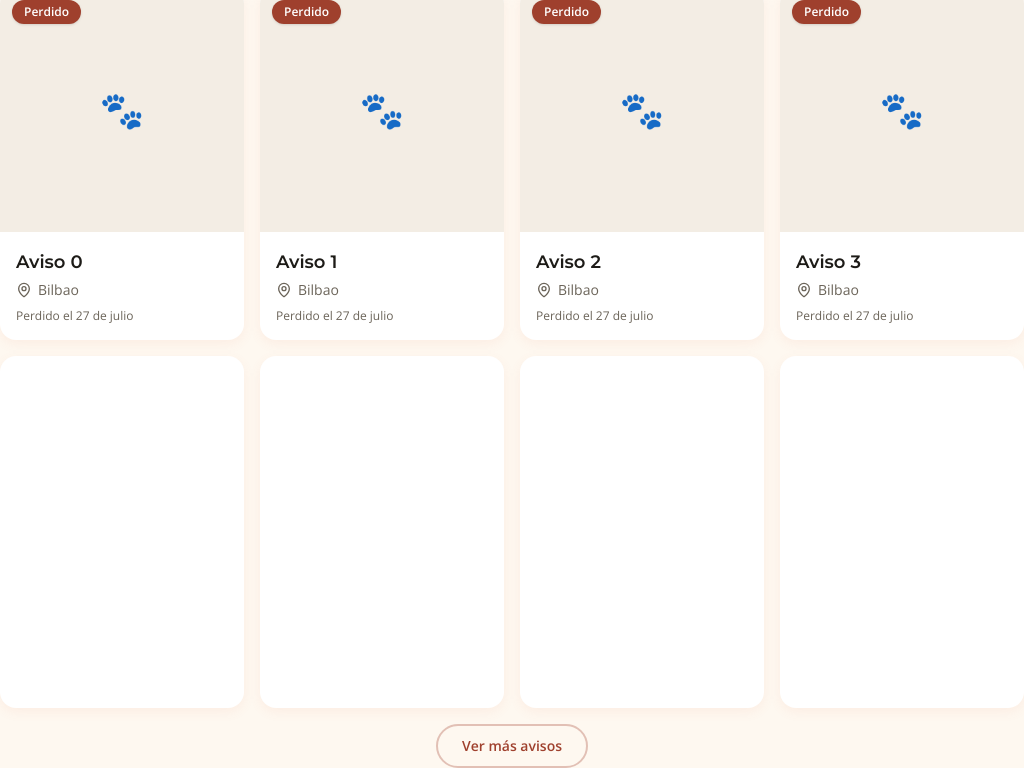
Test case: PerdidosView › con más de 8 avisos, «Ver más avisos» despliega el resto
(page scrolled)
Click the button "Ver más avisos".
click(512, 746)  # box [436, 724, 588, 767]
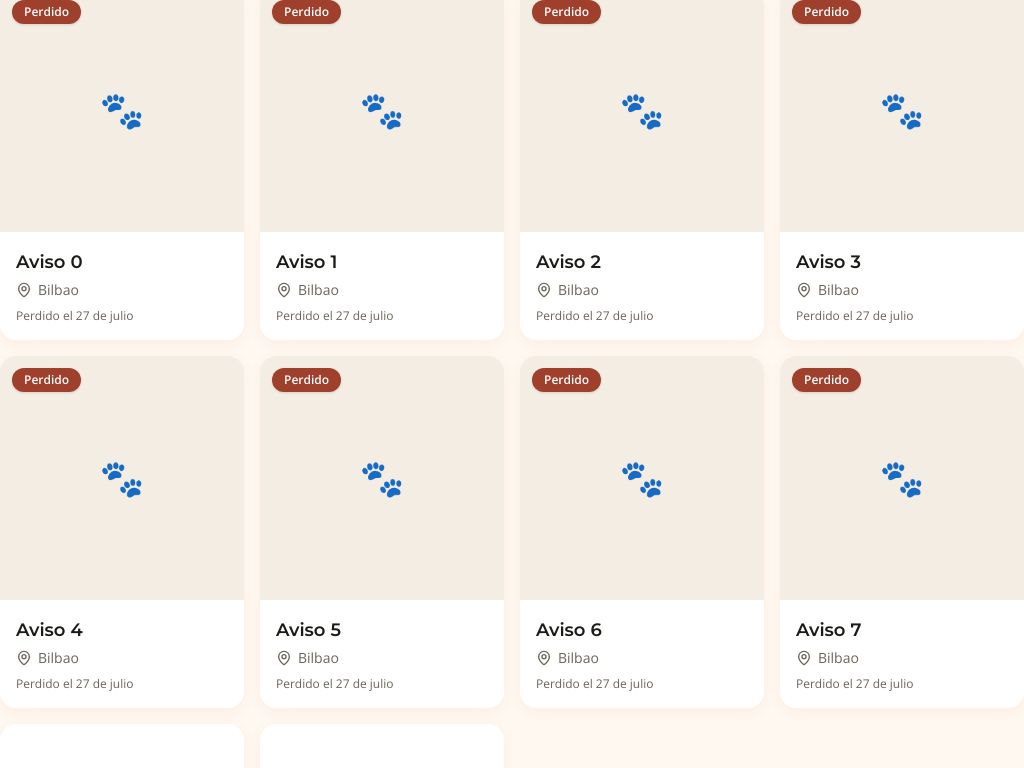
Result: the number of list items is 10
